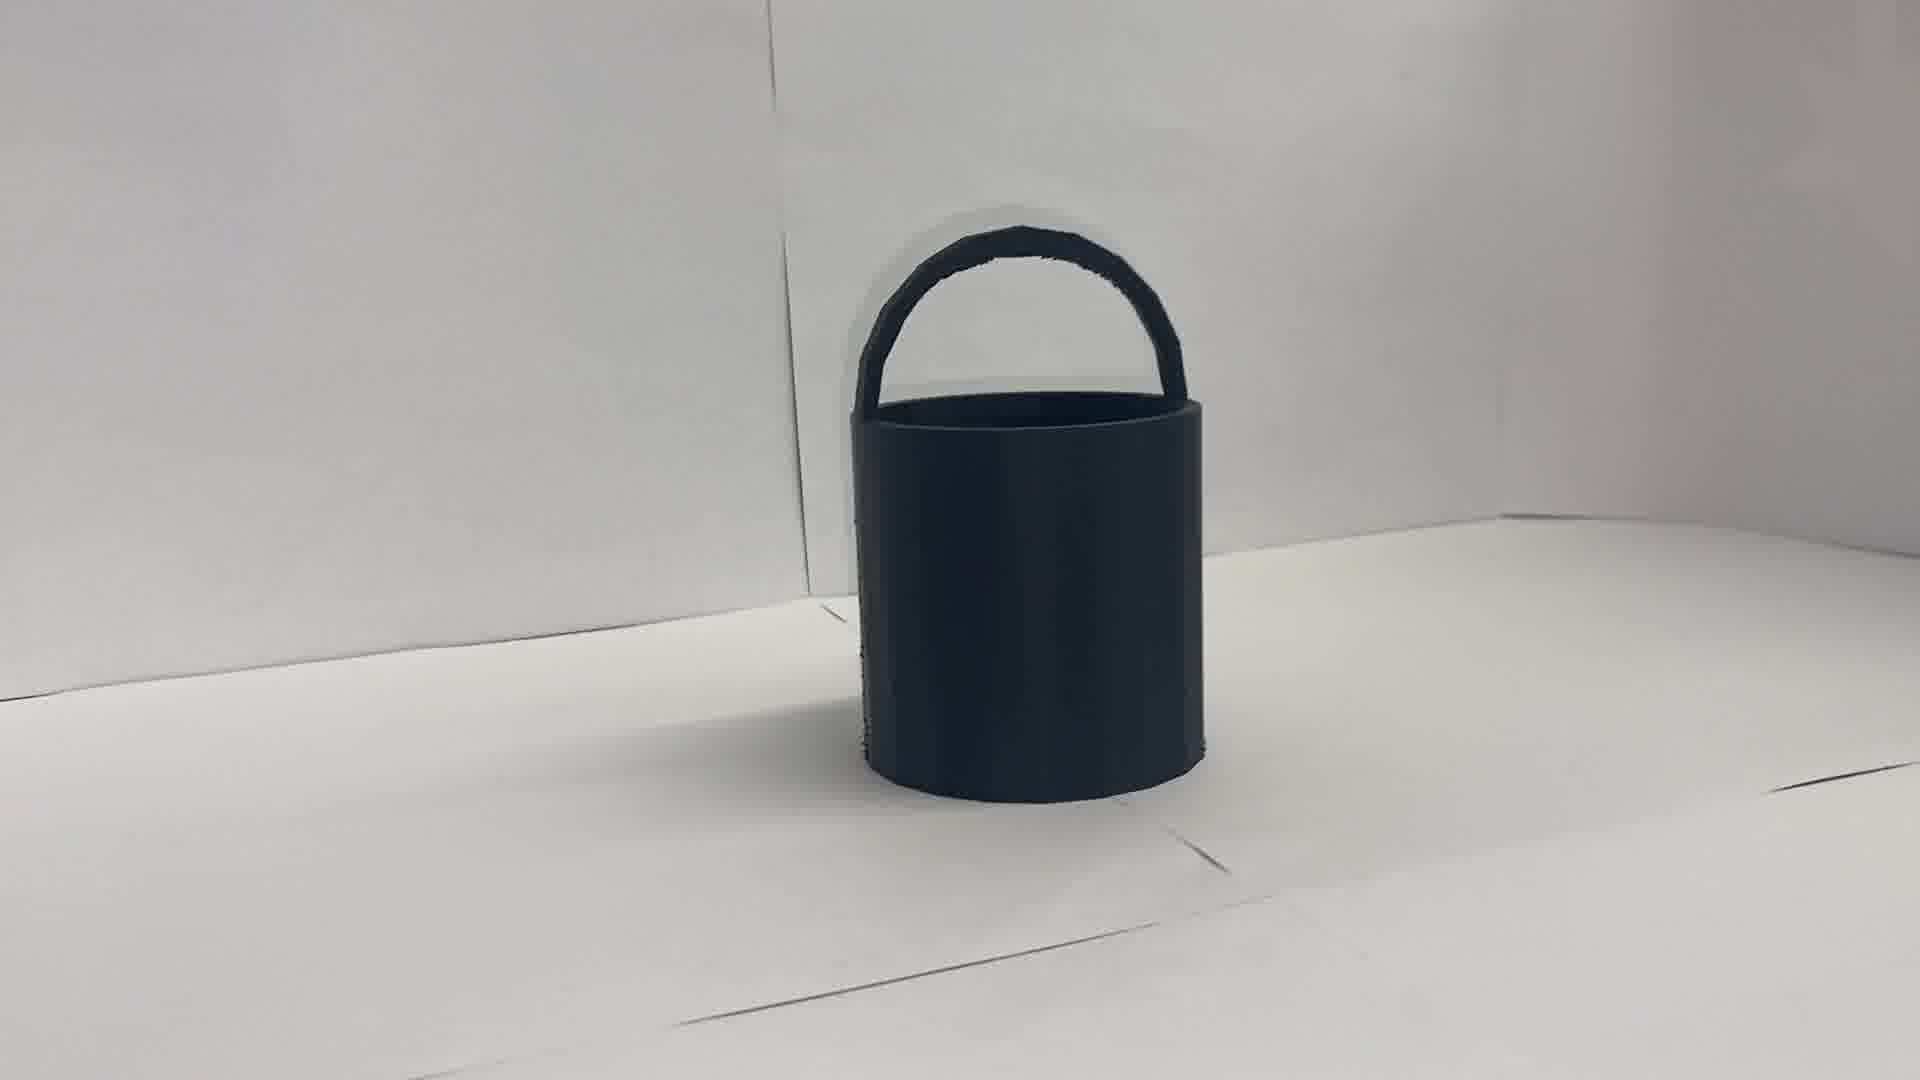bag: (847, 222, 1211, 806)
